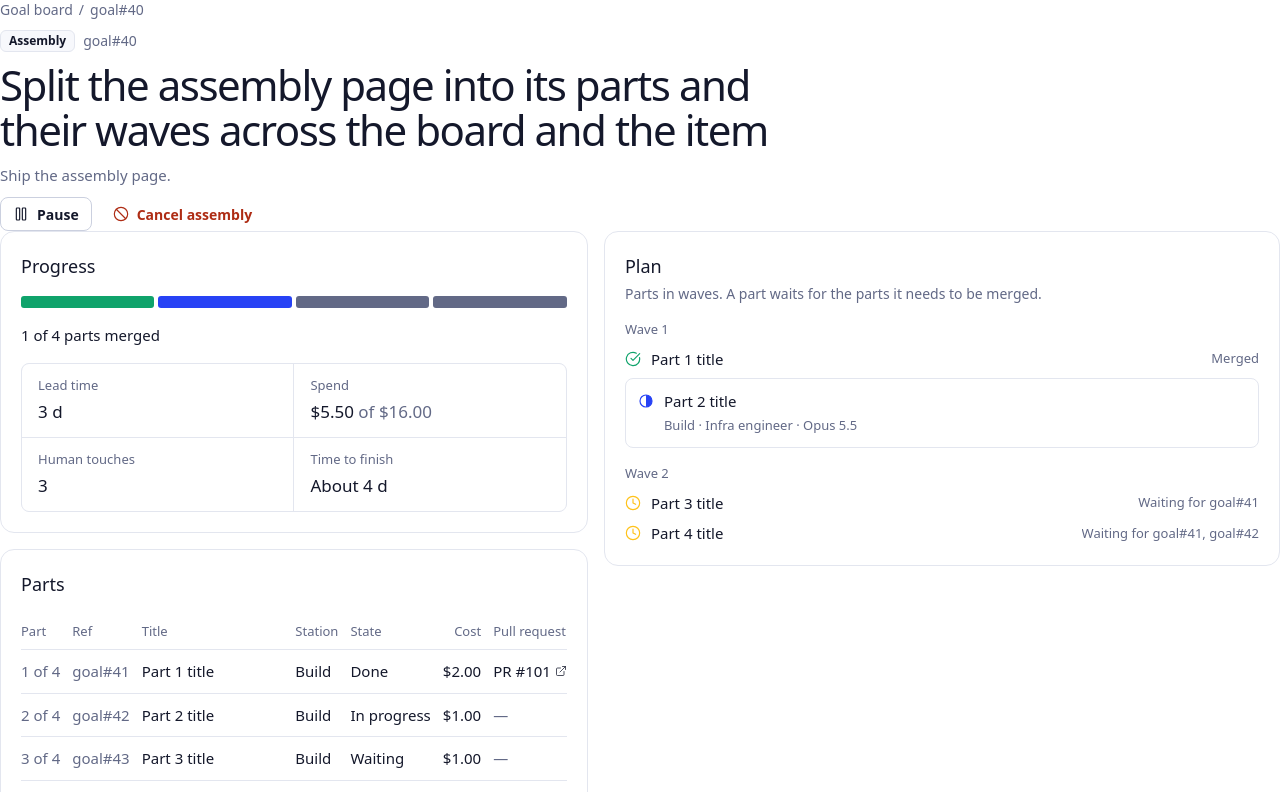
Test case: AssemblyPage actions › shows a 409 refusal inline in the dialog and keeps it open
expect the heading named "Split the assembly page into its parts and their waves acros" is shown: met, box x1=0 y1=62 x2=820 y2=153
Click the button "Cancel assembly". click: (182, 214)
box: x1=100 y1=197 x2=265 y2=231
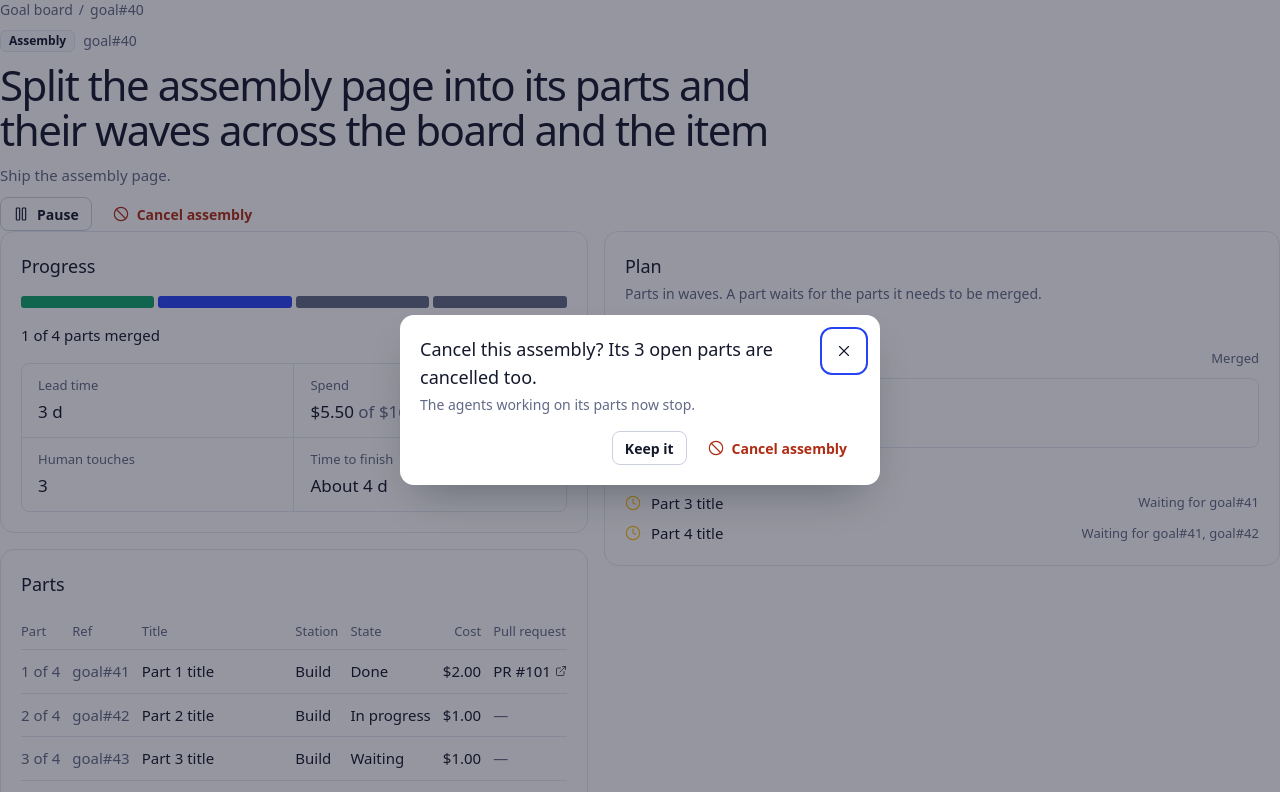
Click the button "Cancel assembly". click: (777, 448)
box: x1=694 y1=431 x2=860 y2=465
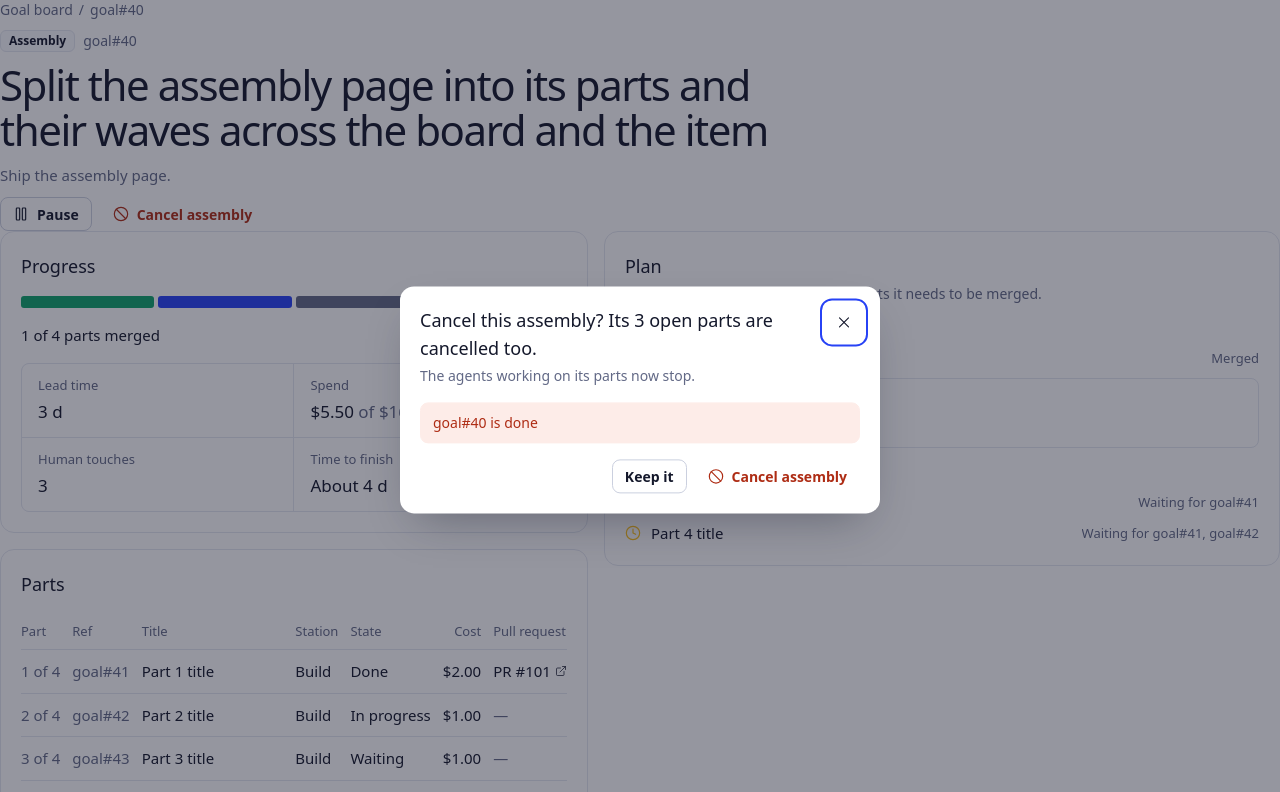
expect the dialog is shown: met, box x1=400 y1=286 x2=880 y2=514
expect the message reads "goal#40 is done": met, box x1=433 y1=413 x2=538 y2=432
